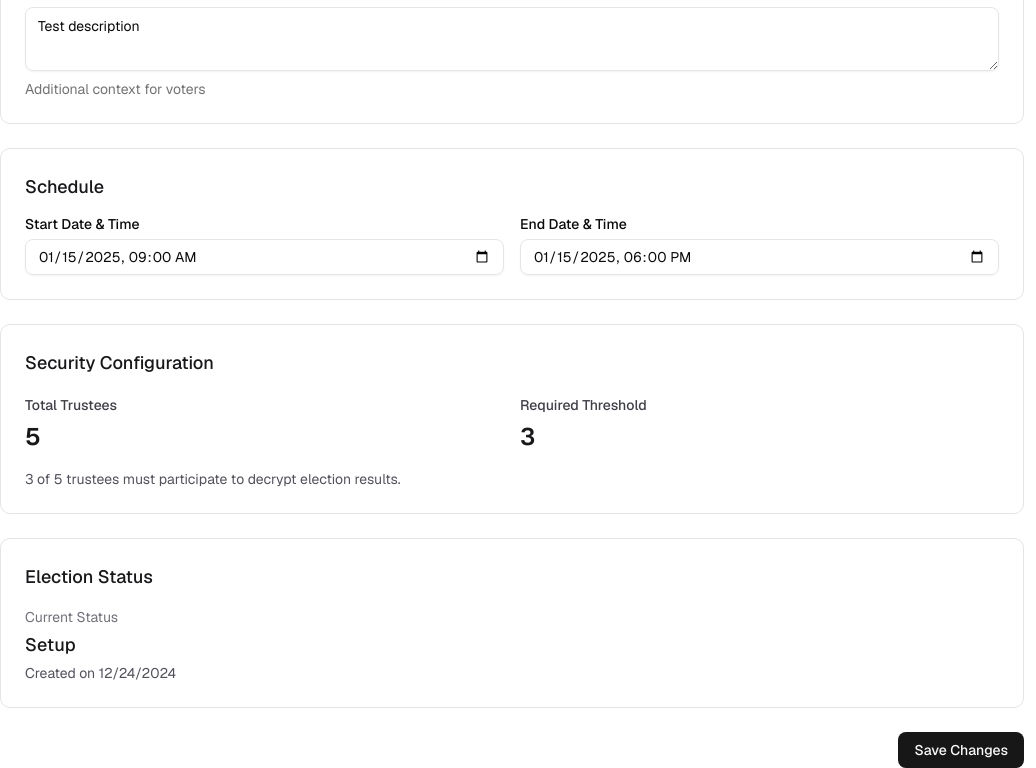
Test: SettingsForm › form submission › should disable button during submission
(page scrolled)
Click the button "Save Changes": [961, 750] box [898,732,1024,767]
(page scrolled)
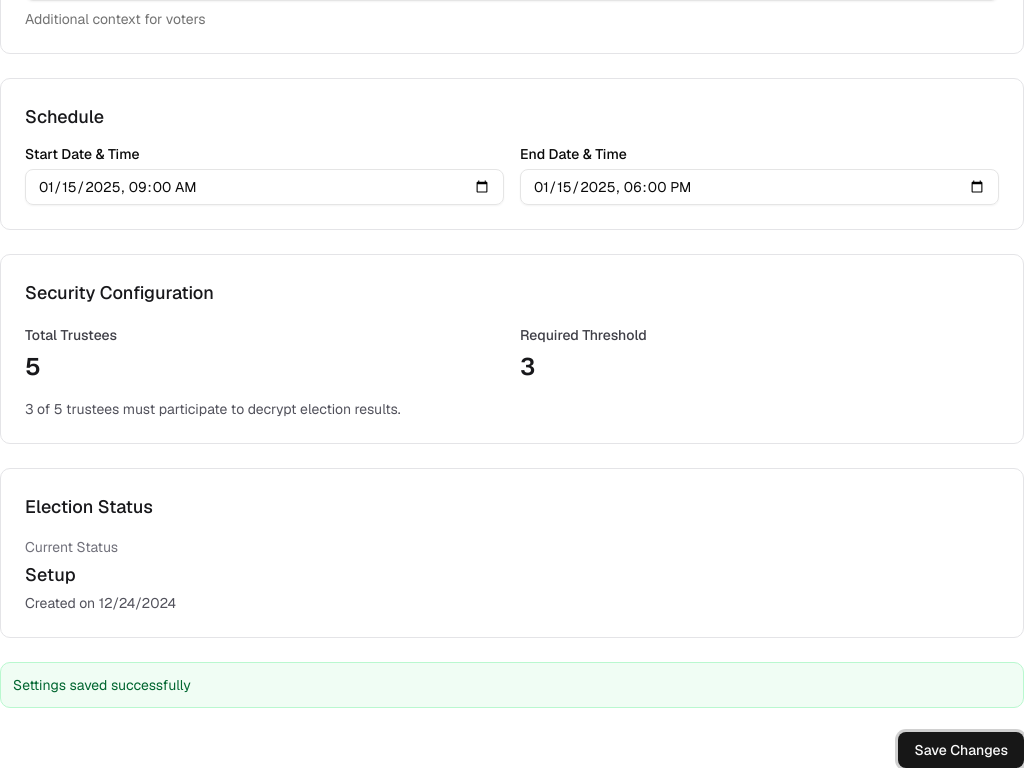
Check: the text "Settings saved successfully" is shown, box [0,662,1024,708]
